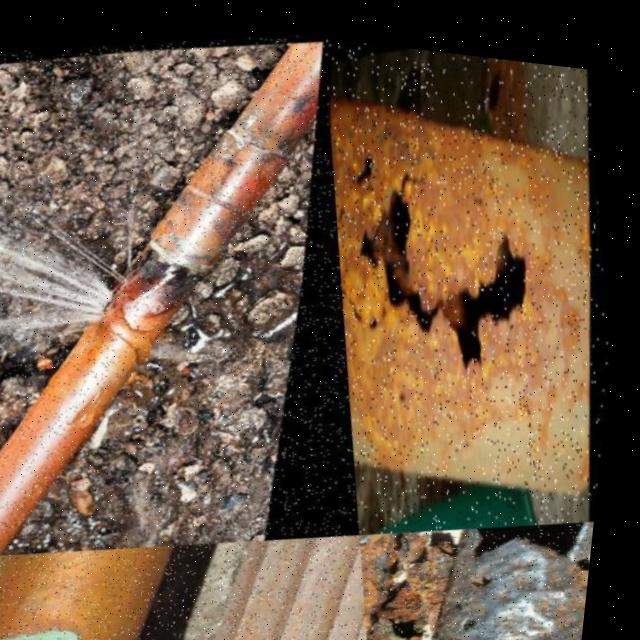hole: (341, 157, 439, 308), (475, 197, 555, 324), (475, 491, 605, 561), (441, 246, 507, 361), (350, 120, 389, 178), (332, 152, 362, 212), (396, 598, 442, 636), (386, 566, 427, 601), (474, 596, 510, 622), (485, 553, 521, 578), (337, 219, 351, 273), (465, 577, 496, 601), (440, 519, 471, 543), (581, 534, 602, 560), (373, 294, 393, 321), (419, 537, 445, 557), (391, 547, 414, 567)
rupture: (113, 261, 151, 321)
